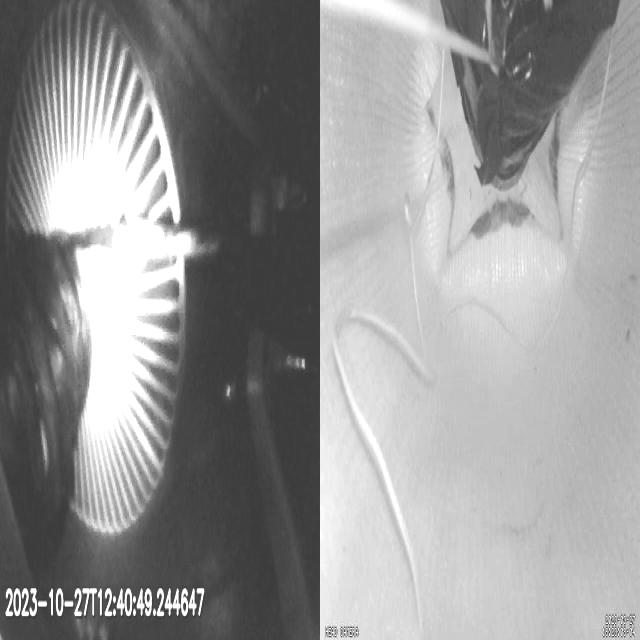red-circle: (428, 102, 566, 239)
